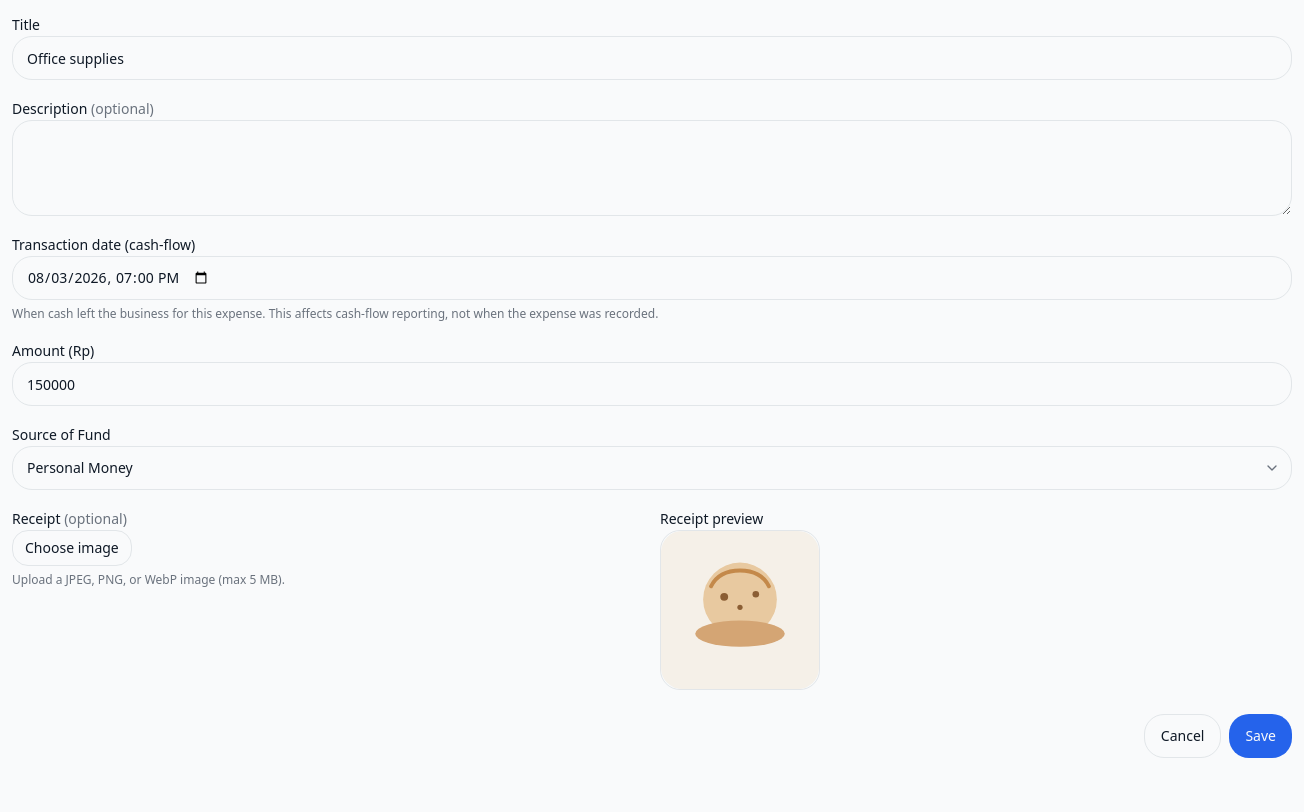
Test: ExpenseForm › blocks submit when reporting date is in the future
What coordinates should you click on to do the following:
click the button "Save"
I would click on:
 (1261, 736)
Its box is [1229,714,1292,758].
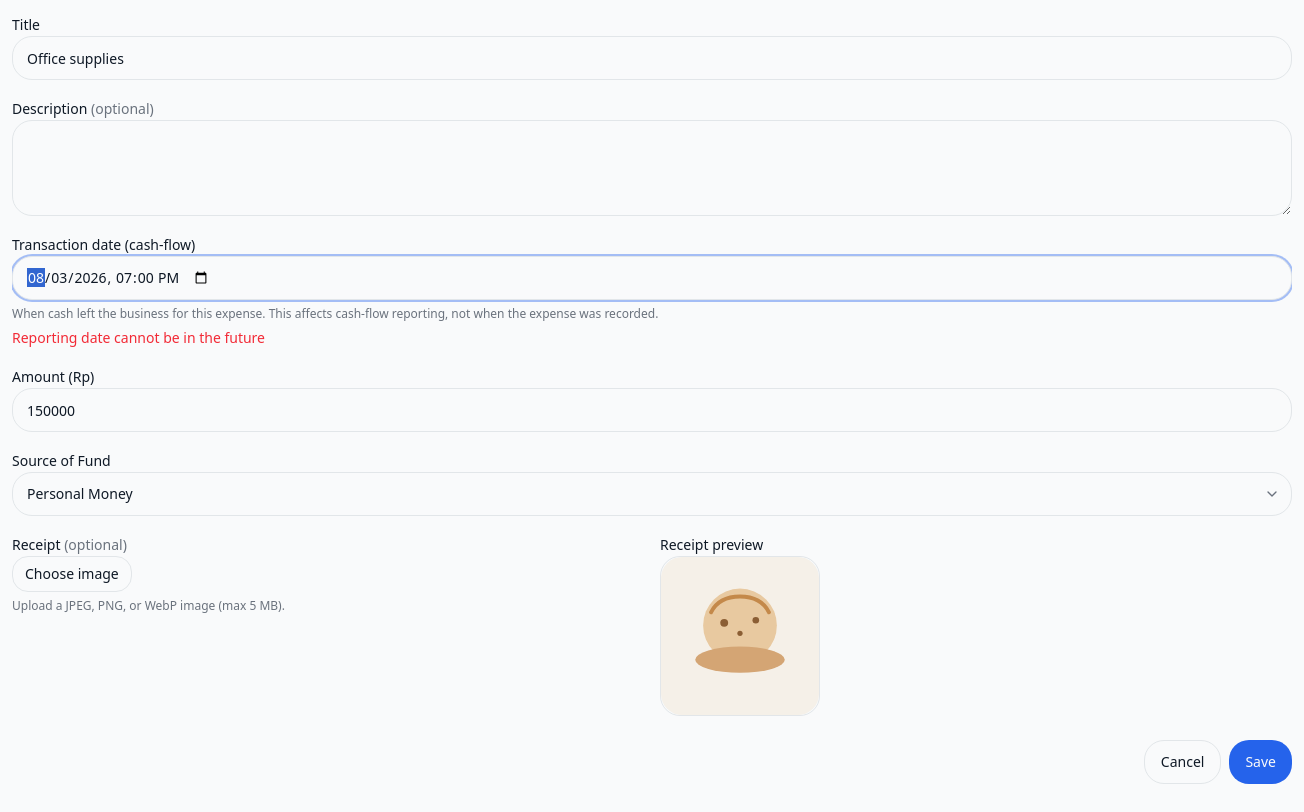
Now the text with test id "expense-record-date-error" shows "cannot be in the future", box [12,328,265,347]
